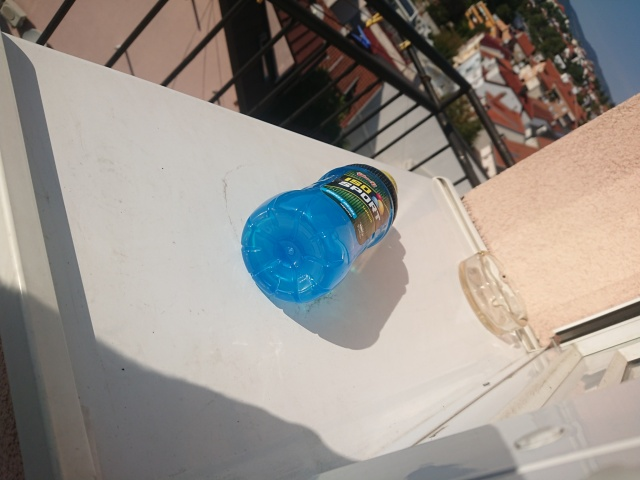Vindi Iso Sport Forest Strawberries 500mL: (237, 161, 401, 306)
